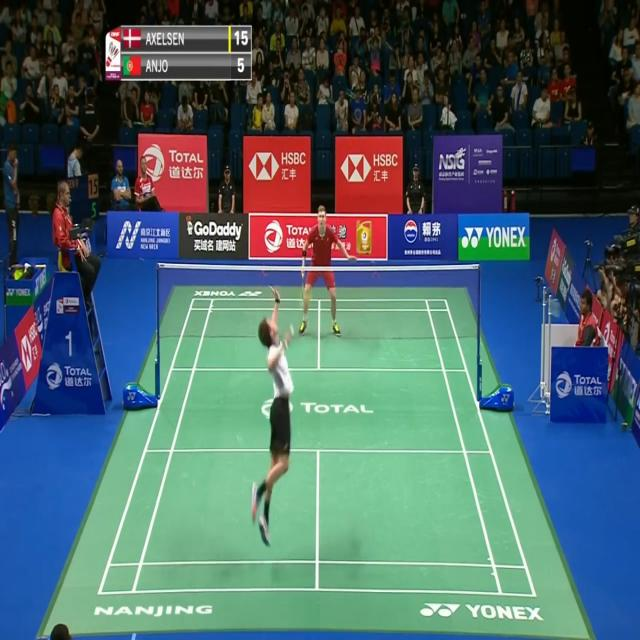Player1: (247, 279, 297, 551)
Player2: (297, 201, 356, 339)
